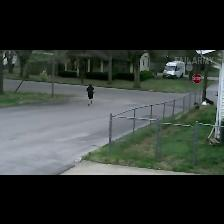person: (87, 85, 94, 105)
